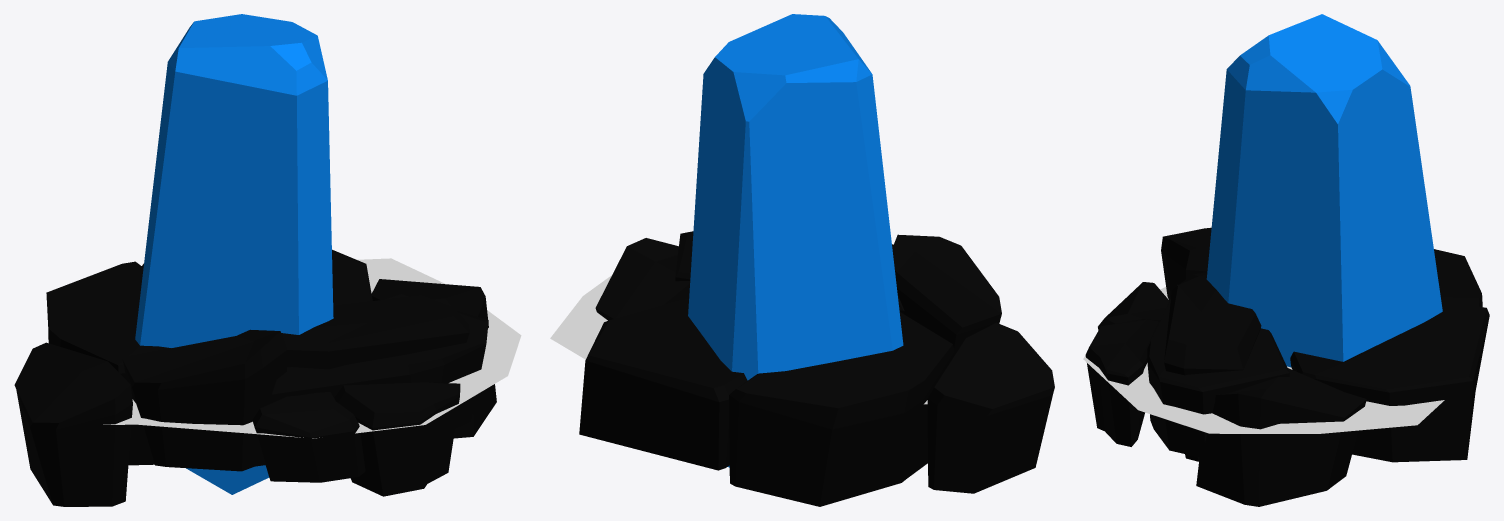
The model's file is stone_base.fbx.
The picture shows the model from 3 angles, left to right: view 1: azimuth 30°, elevation 25°; view 2: azimuth 150°, elevation 25°; view 3: azimuth 270°, elevation 25°; orthographic projection. The views are drawn at different scales.
Visible parts, largest first — view 1: stage_01, stone_base_01, stage_shadow; view 2: stage_01, stone_base_01, stage_shadow; view 3: stone_base_01, stage_01, stage_shadow.
Boxes of the visible parts, x1,y1,x2,y2 form: stage_01: (14, 249, 496, 506); stone_base_01: (135, 14, 333, 494); stage_shadow: (103, 258, 521, 438); stage_01: (579, 231, 1054, 506); stone_base_01: (688, 14, 903, 467); stage_shadow: (550, 275, 927, 404); stone_base_01: (1206, 14, 1442, 367); stage_01: (1085, 227, 1489, 506); stage_shadow: (1083, 287, 1444, 433).
Size of the model in its own units: 258 by 254 by 213.
